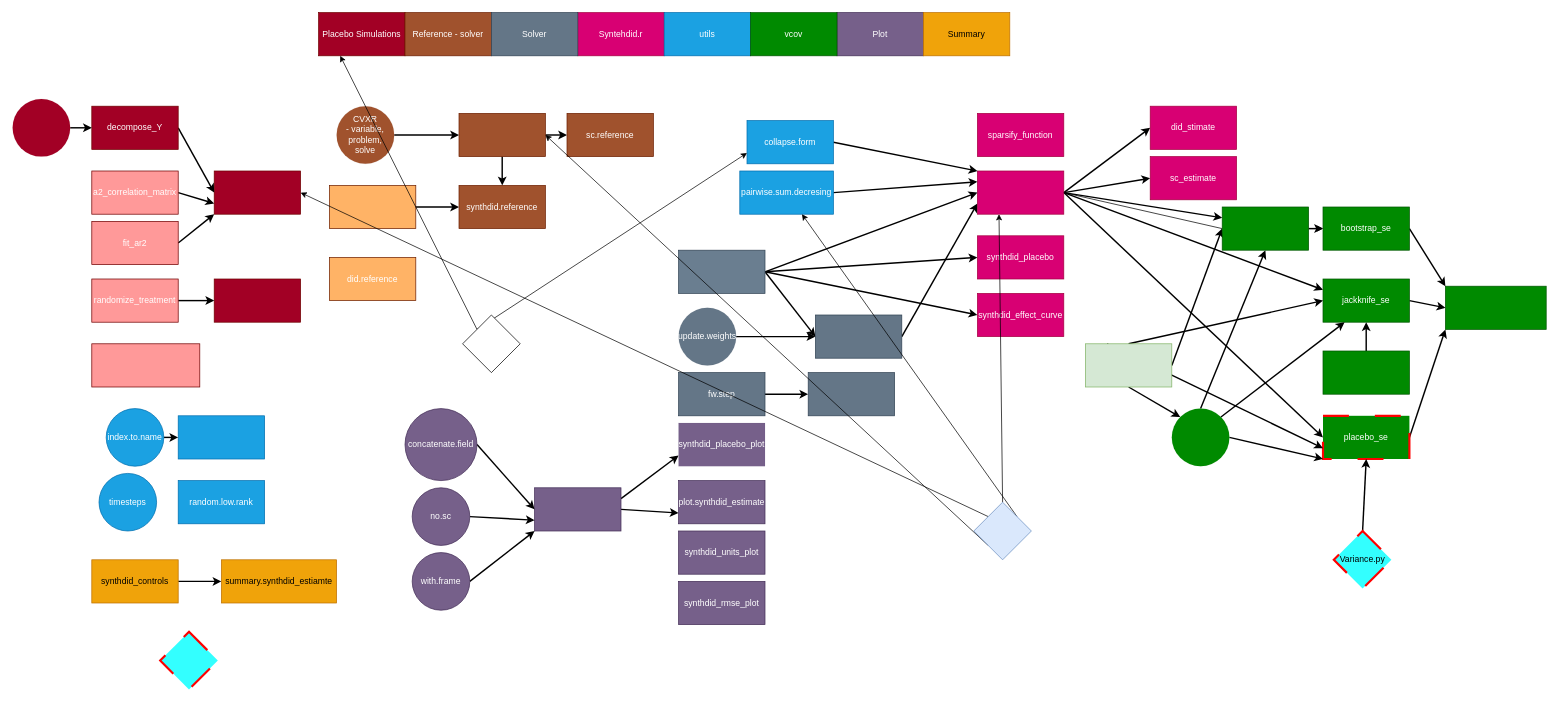
The diagram is 1559 pixels wide and 703 high, and some of its shapes have lost their labels. Here are the shapes that lost their labels. From the top down, the centre of each, then its label:
point (41, 127): svd
point (501, 135): simplex.least.squares
point (257, 192): Estimate_dgp
point (372, 207): sigma.default
point (1020, 192): synthdid_estimate
point (1265, 228): bootstrap_sample
point (721, 271): contract3
point (257, 300): simulate_dgp
point (1495, 307): vcov.synthdid_estimate
point (491, 343): model.py
point (858, 336): sc.weight.fw.covariates
point (145, 365): lindsey_density_estimate
point (1128, 365): sum_normalise
point (1365, 372): jackknife
point (851, 394): sc.weight.fw
point (221, 437): panel matrices
point (1200, 437): theta
point (577, 509): synthdid_plot
point (1002, 530): optimize.py
point (189, 660): summary.py
